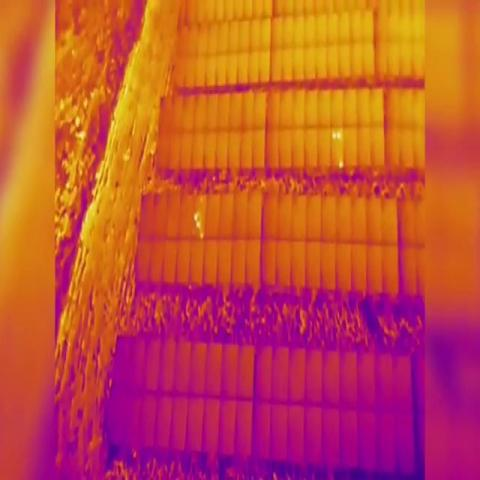fault: (331, 131, 337, 142), (194, 210, 198, 222), (200, 230, 204, 241), (337, 132, 342, 140), (339, 160, 344, 168), (197, 221, 201, 229)
